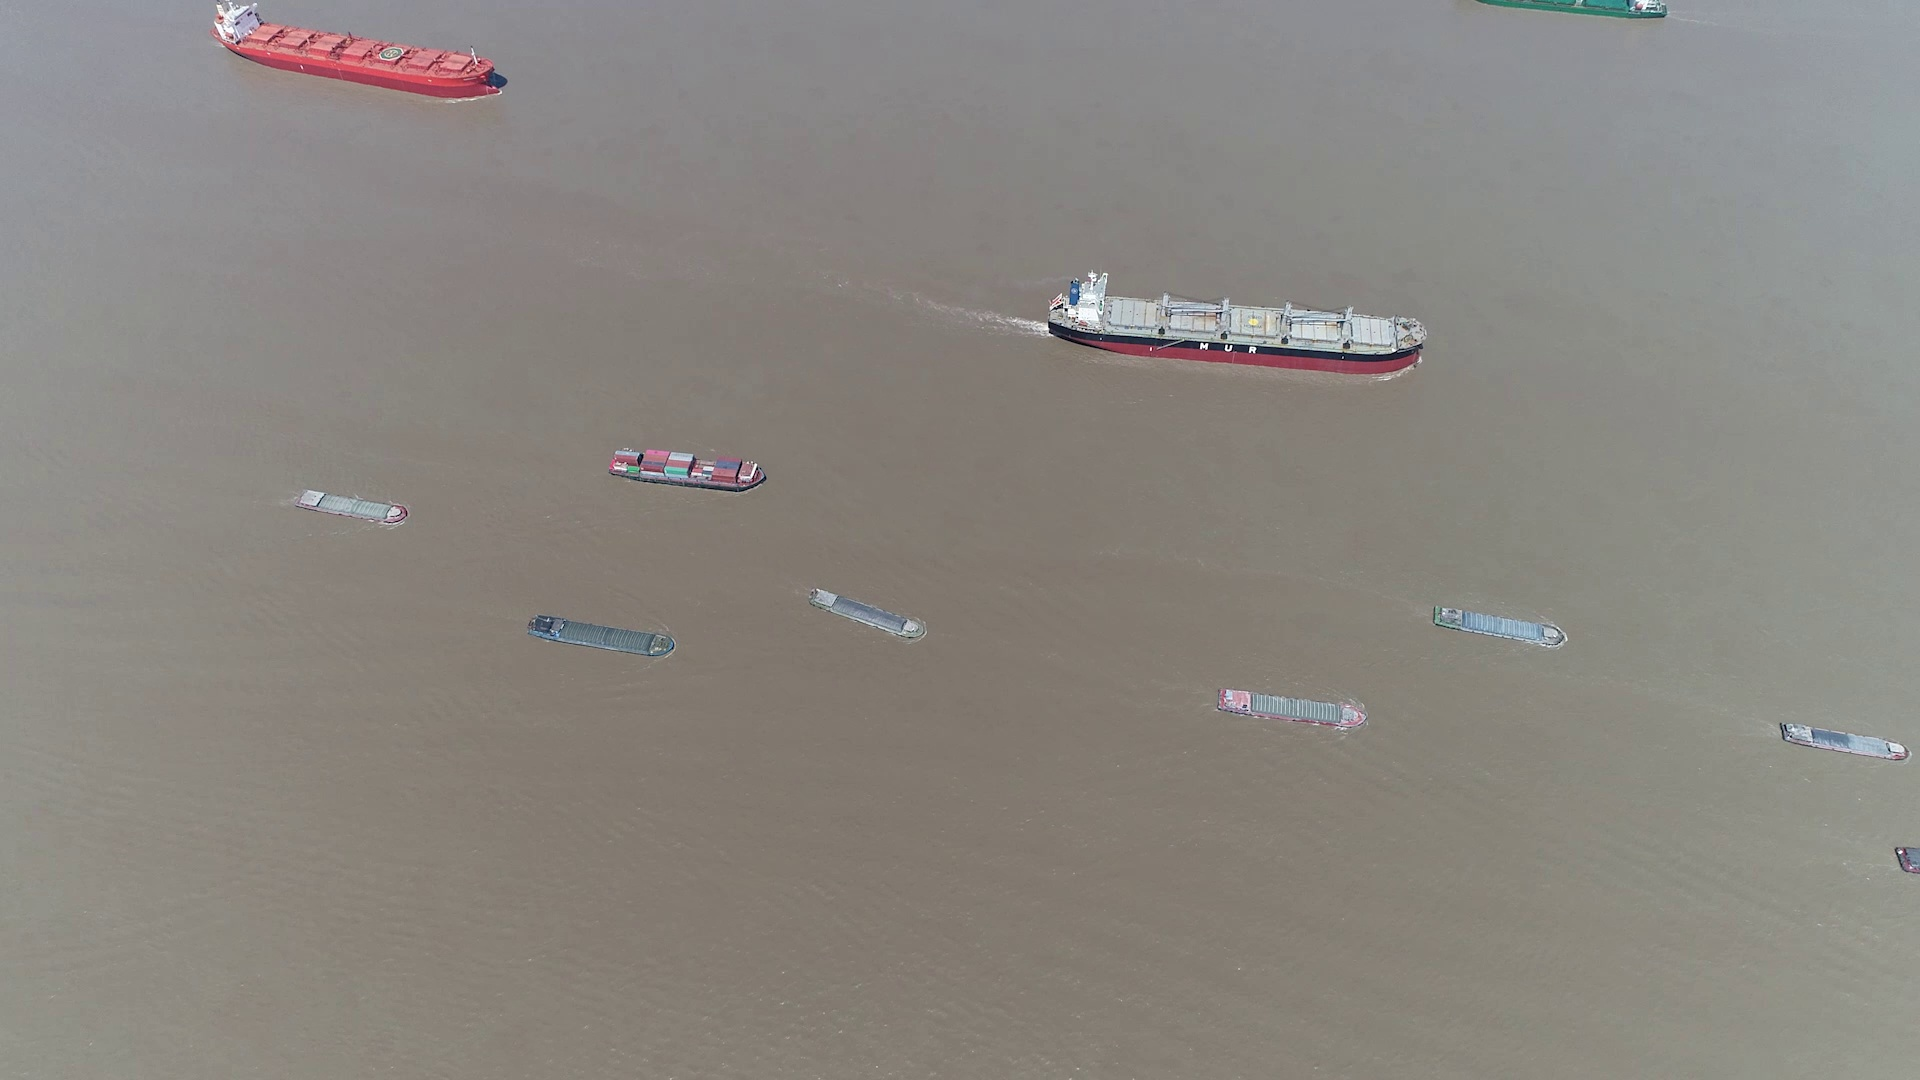ship: (1052, 276, 1425, 375), (208, 0, 505, 102), (608, 444, 767, 491), (527, 615, 675, 659), (1215, 687, 1367, 728), (810, 587, 927, 640), (1778, 720, 1908, 762), (1432, 607, 1567, 647), (294, 488, 407, 525), (1482, 0, 1665, 18), (1895, 845, 1920, 877)
